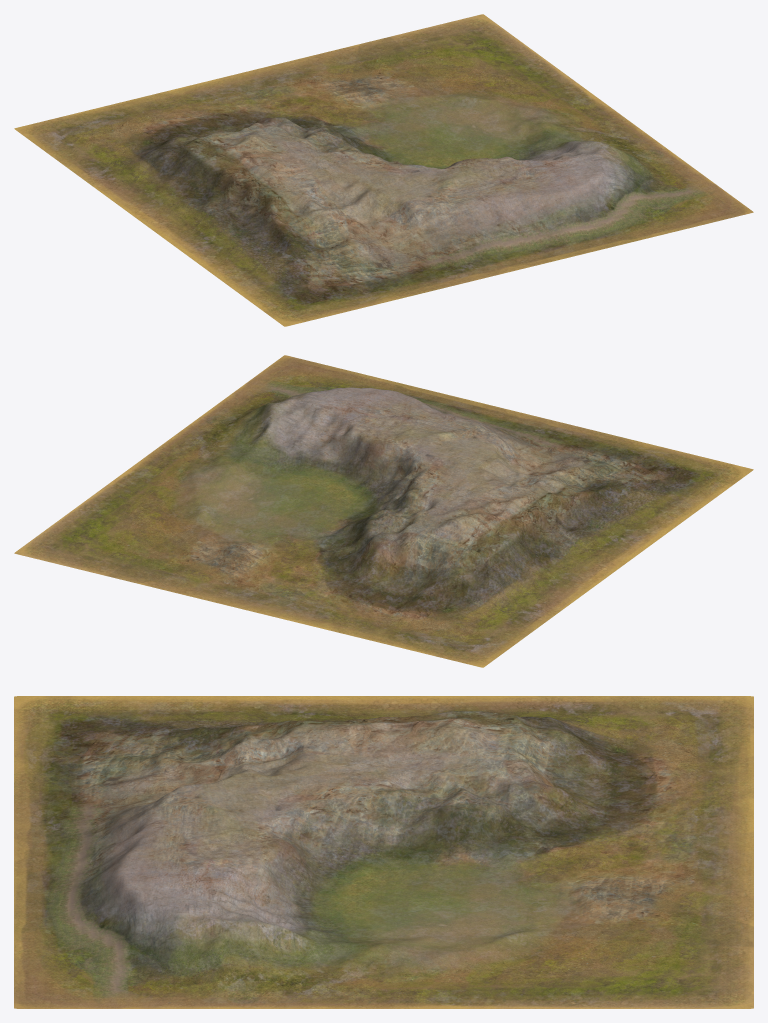
The model's file is Terrain_0.fbx.
The picture shows the model from 3 angles, top to bottom: view 1: azimuth 30°, elevation 25°; view 2: azimuth 150°, elevation 25°; view 3: azimuth 270°, elevation 25°; orthographic projection. The views are drawn at different scales.
Parts seen in each view (by area): view 1: Landscape.004; view 2: Landscape.004; view 3: Landscape.004.
Part boxes in pixels (box(x1,y1,x2,y2)): Landscape.004: box(14, 14, 753, 326); Landscape.004: box(14, 355, 753, 667); Landscape.004: box(14, 696, 753, 1008).
Bounding box in the file's own units: 50984 × 4098 × 50984.
Materials: 1 (1 with a texture image).
